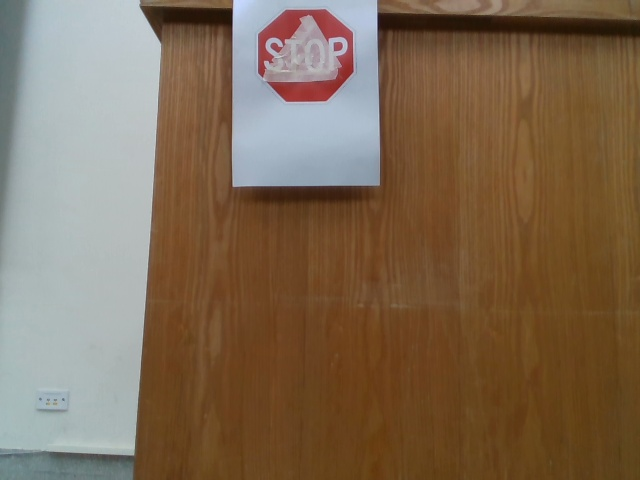stop: (255, 7, 360, 108)
